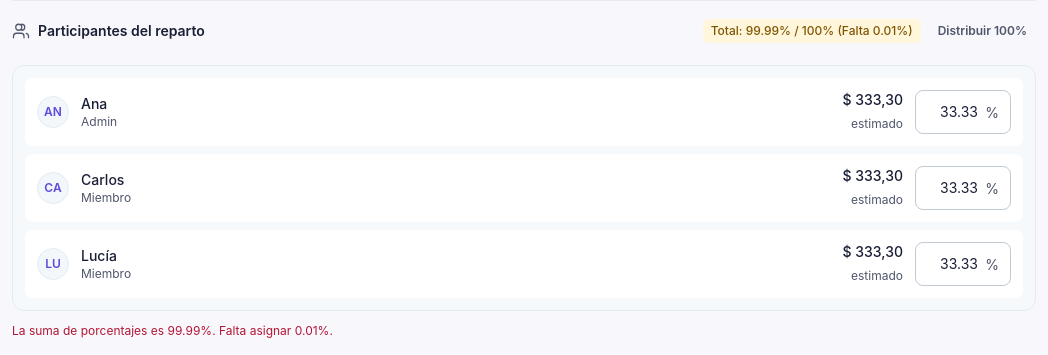
ExpenseForm & ParticipantsSelector › ParticipantsSelector: modo PORCENTUAL valida en tiempo real que la suma sea exactamente 100%
Replace the text in the number field named "Porcentaje para Ana" with "60" at x=963, y=112, box [915,90,1011,134]
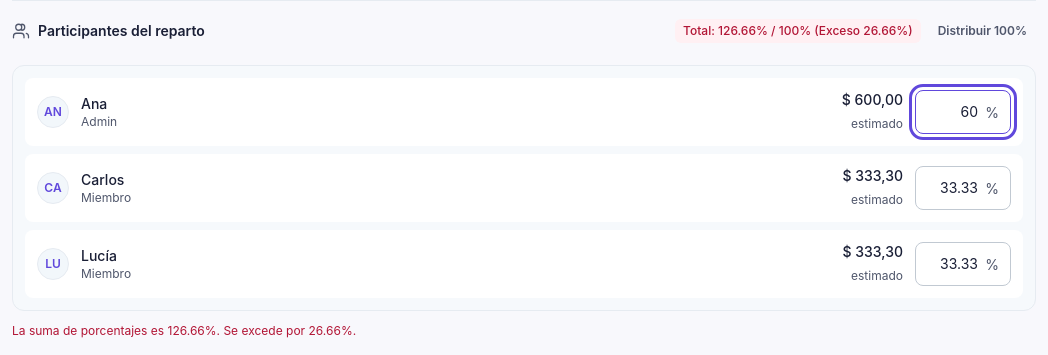
Replace the text in the number field named "Porcentaje para Carlos" with "20" at x=963, y=188, box [915,166,1011,210]
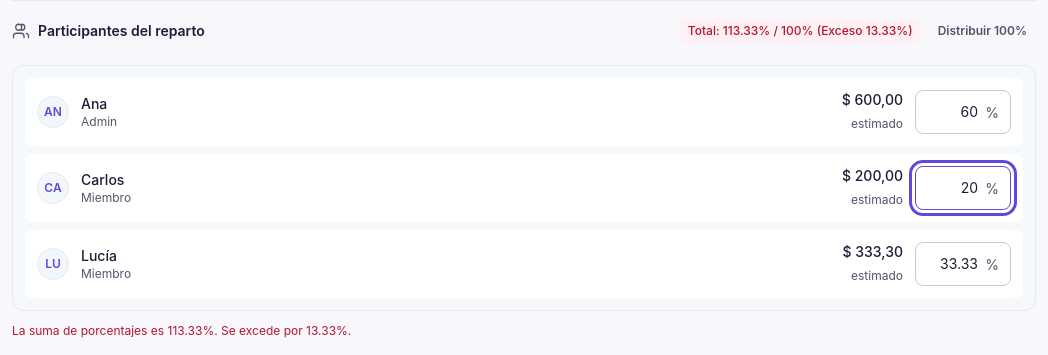
Replace the text in the number field named "Porcentaje para Lucía" with "10" at x=963, y=264, box [915,242,1011,286]
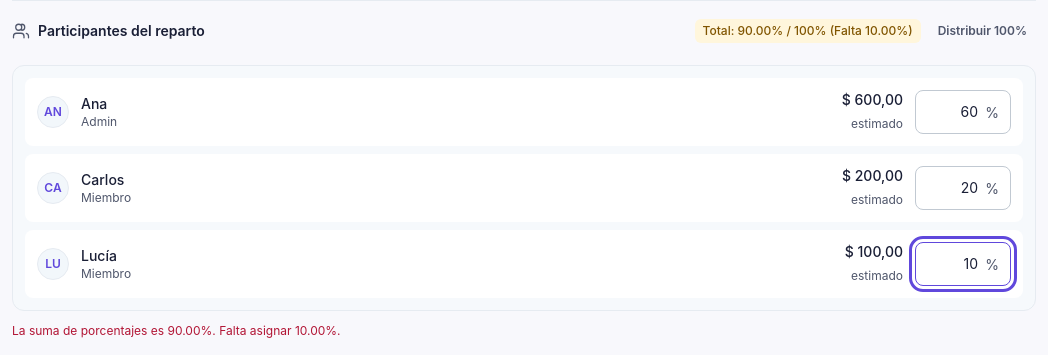
Result: the text "La suma de porcentajes es 90.00%. Falta asignar 10.00%." is shown at [12,323,341,338]
# Ajustamos para que sume 100%
Replace the text in the number field named "Porcentaje para Lucía" with "20" at x=963, y=264, box [915,242,1011,286]
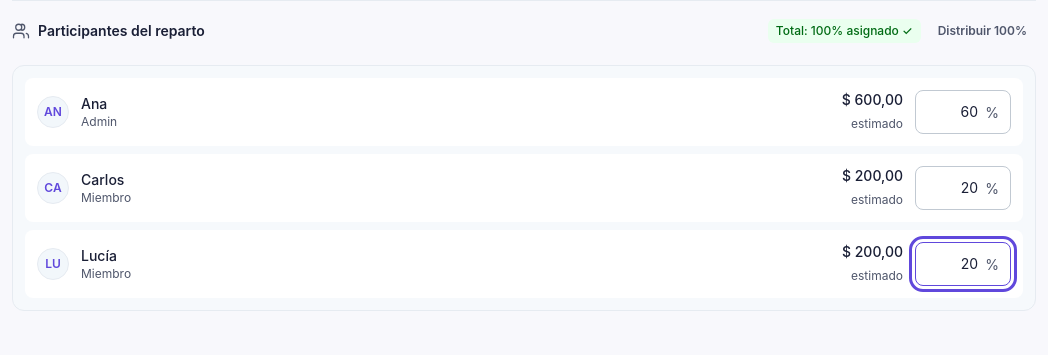
Result: the text "Total: 100% asignado ✓" is shown at [768,19,921,43]
